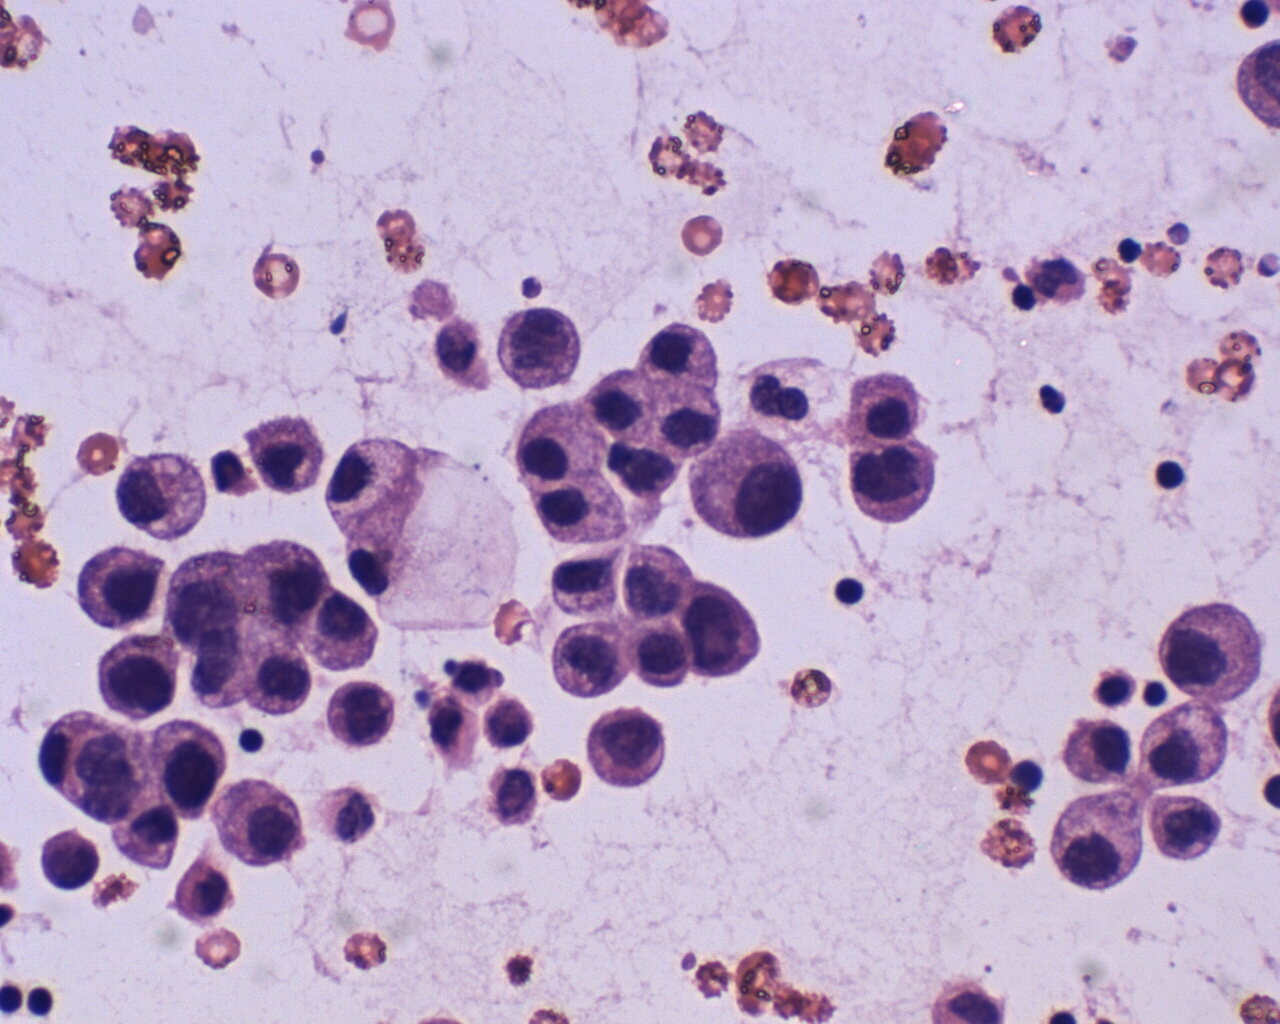ab: (684, 425, 801, 542), (1146, 591, 1262, 703), (1051, 783, 1146, 891), (117, 445, 215, 545), (684, 574, 768, 684), (73, 544, 164, 634), (495, 304, 583, 397), (89, 632, 183, 719), (850, 430, 934, 525), (152, 717, 226, 821), (586, 708, 672, 789), (322, 675, 408, 751), (615, 541, 695, 618), (1150, 794, 1226, 870), (242, 638, 316, 717), (34, 825, 111, 897), (627, 618, 694, 695), (1061, 715, 1132, 786)
lymph: (1148, 453, 1195, 495), (831, 568, 868, 613)
